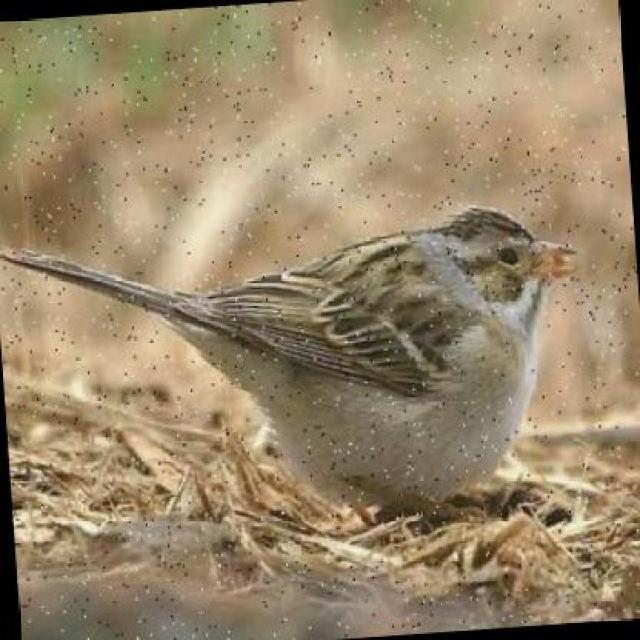Bird: (2, 201, 582, 514)
